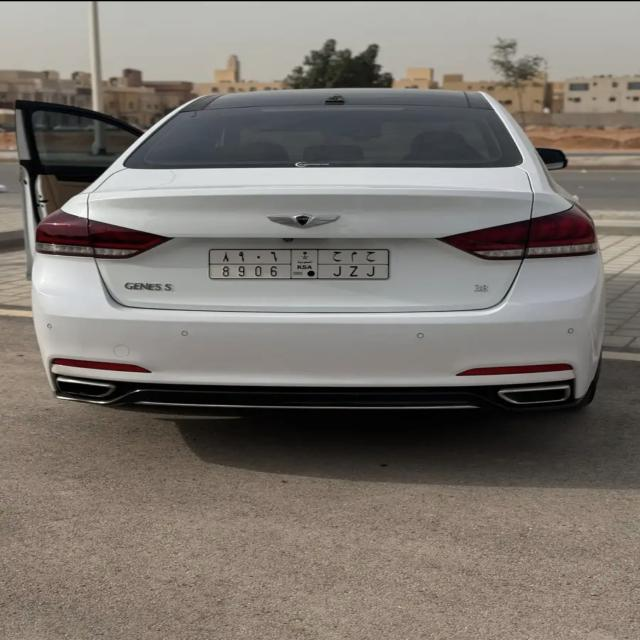license_plate: (208, 248, 392, 280)
